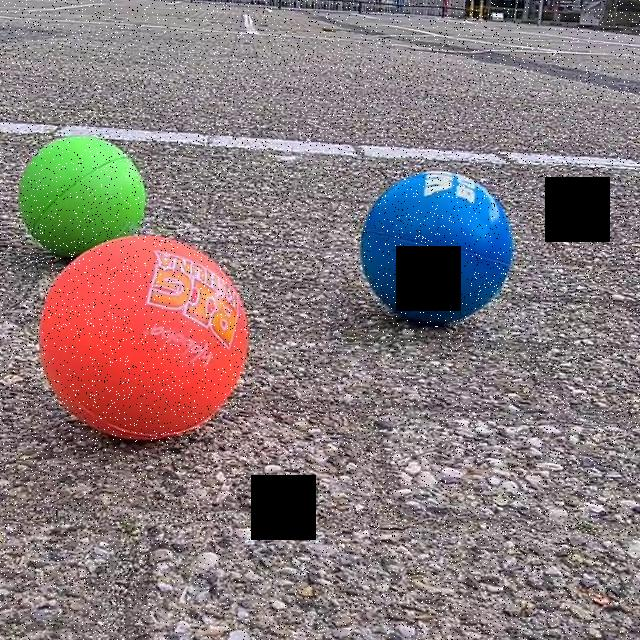ball: (359, 166, 515, 329), (16, 134, 148, 252)
